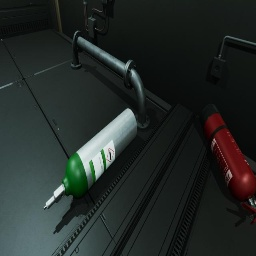0: (44, 108, 137, 210)
FireExtinguisher ]: (199, 104, 256, 225)
